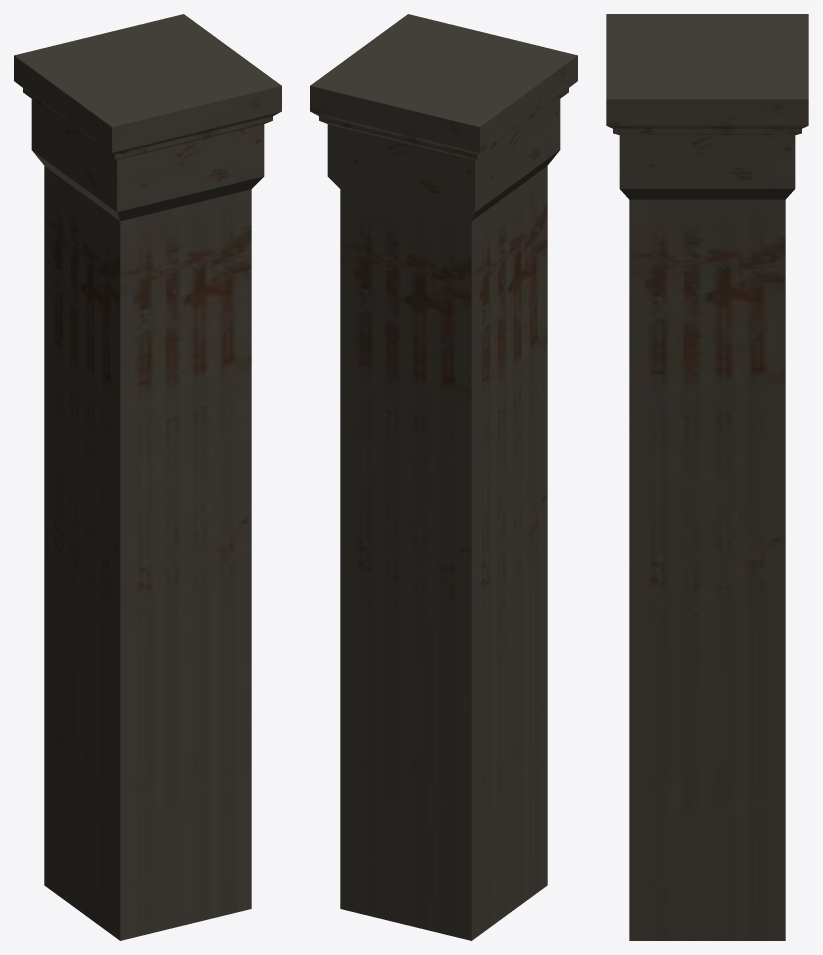
The model's file is Metal_Column_Top.glb.
3 renders of one model, left to right at view 1: azimuth 30°, elevation 25°; view 2: azimuth 150°, elevation 25°; view 3: azimuth 270°, elevation 25°, orthographic. The views are drawn at different scales.
Parts seen in each view (by area): view 1: Metal_Column_Top; view 2: Metal_Column_Top; view 3: Metal_Column_Top.
Boxes of the visible parts, x1,y1,x2,y2 form: Metal_Column_Top: (14, 14, 281, 940); Metal_Column_Top: (310, 14, 577, 940); Metal_Column_Top: (606, 14, 808, 940).
Size of the model in its own units: 0.6442 by 3 by 0.6445.
1 material, 1 textured.
